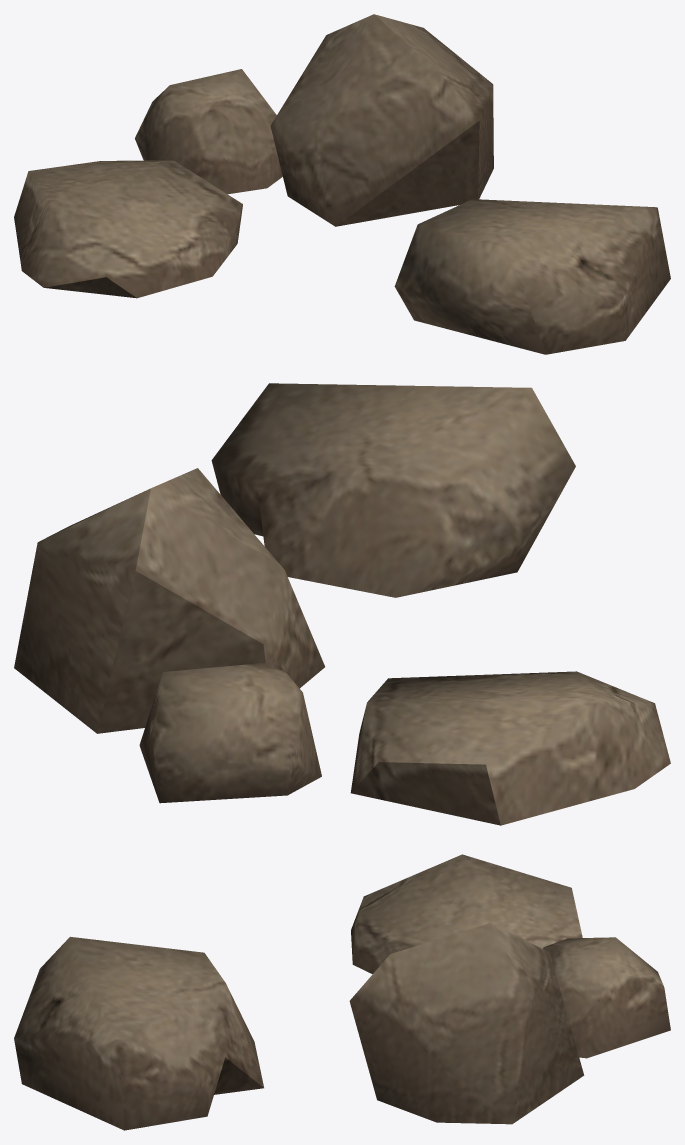
File: environment_stone_shanti_004_e.FBX
3 views of the same model, one above another, from view 1: azimuth 30°, elevation 25°; view 2: azimuth 150°, elevation 25°; view 3: azimuth 270°, elevation 25° (orthographic). The views are drawn at different scales.
Visible parts, largest first — view 1: environment_stone_shanti_004_e; view 2: environment_stone_shanti_004_e; view 3: environment_stone_shanti_004_e.
Boxes of the visible parts, x1,y1,x2,y2 form: environment_stone_shanti_004_e: (14, 14, 670, 354); environment_stone_shanti_004_e: (14, 383, 670, 825); environment_stone_shanti_004_e: (14, 854, 670, 1130).
Bounding box in the file's own units: 220 × 68.75 × 264.
